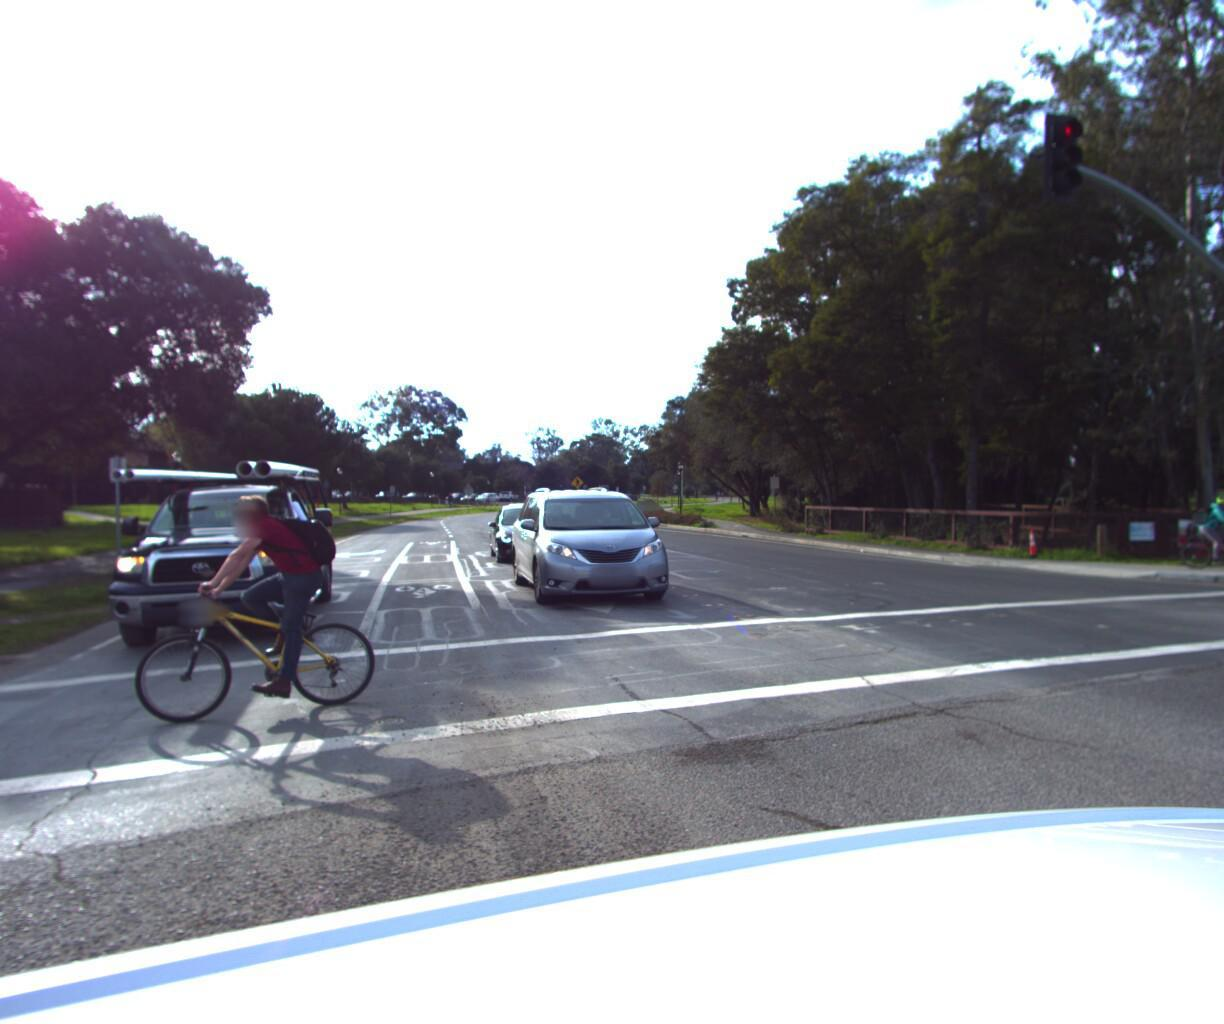bicycle: (73, 465, 379, 733), (1170, 490, 1224, 568)
car: (60, 440, 336, 659), (500, 482, 683, 619), (482, 499, 571, 569)
